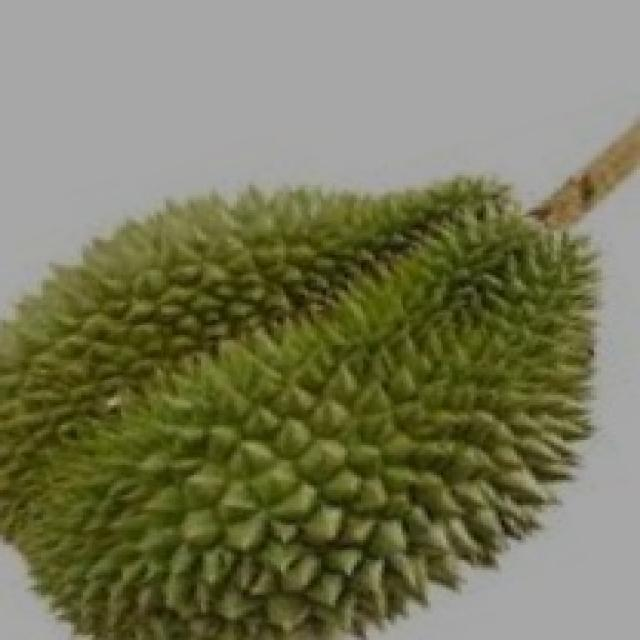fruit: (264, 197, 640, 634), (0, 272, 351, 640)
